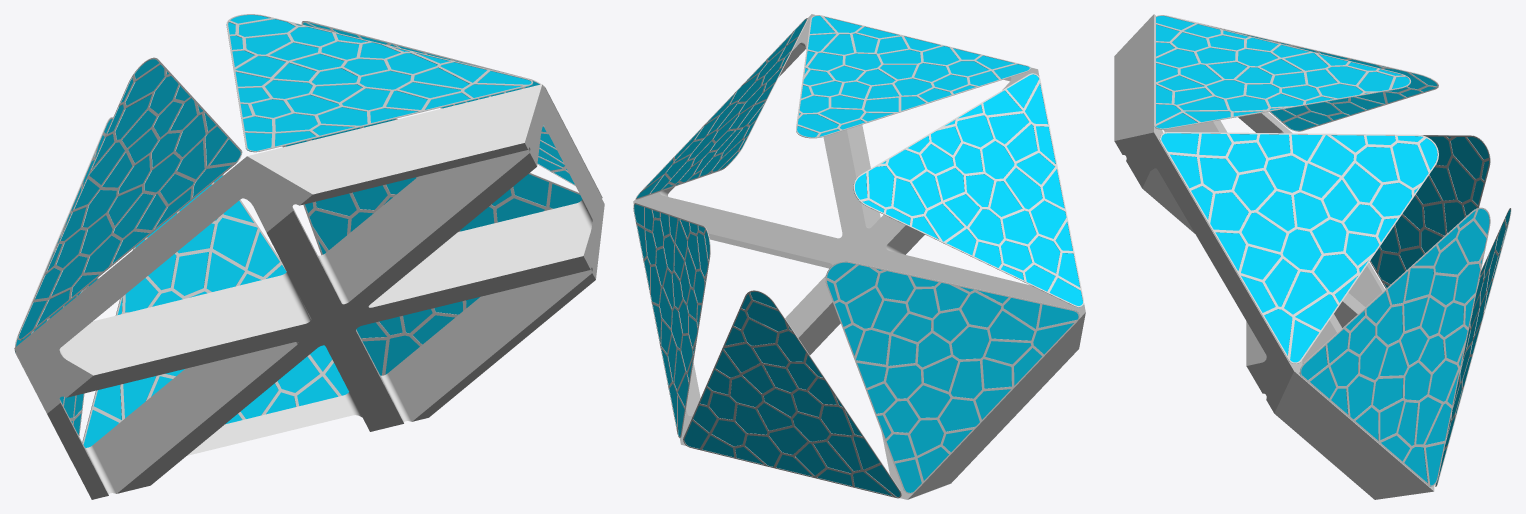
Rendered from Nets.fbx.
3 renders of one model, left to right at view 1: azimuth 30°, elevation 25°; view 2: azimuth 150°, elevation 25°; view 3: azimuth 270°, elevation 25°, orthographic. The views are drawn at different scales.
Visible parts, largest first — view 1: 物件_20, 物件_14, 物件_19, 物件_15, 物件_18, 物件_6, 物件_5, 物件_1, 物件_8, 物件_13, 物件_3, 物件_17 (+5 smaller); view 2: 物件_16, 物件_19, 物件_20, 物件_15, 物件_14, 物件_18, 物件_4, 物件_17, 物件_5, 物件_1, 物件_6, 物件_3 (+7 smaller); view 3: 物件_17, 物件_20, 物件_18, 物件_14, 物件_7, 物件_16, 物件_3, 物件_6, 物件_19, 物件_11, 物件_12, 物件_15 (+7 smaller).
Boxes of the visible parts, x1,y1,x2,y2 form: 物件_20: (14, 84, 604, 499); 物件_14: (226, 15, 532, 151); 物件_19: (19, 59, 241, 340); 物件_15: (83, 175, 348, 447); 物件_18: (286, 119, 582, 375); 物件_6: (226, 14, 533, 152); 物件_5: (17, 57, 242, 340); 物件_1: (82, 175, 339, 444); 物件_8: (226, 14, 526, 152); 物件_13: (23, 59, 242, 337); 物件_3: (282, 118, 579, 375); 物件_17: (303, 22, 574, 184); 物件_16: (827, 262, 1078, 492); 物件_19: (855, 73, 1082, 307); 物件_20: (633, 14, 1085, 499); 物件_15: (684, 291, 900, 496); 物件_14: (797, 16, 1029, 137); 物件_18: (634, 204, 709, 436); 物件_4: (825, 261, 1079, 493); 物件_17: (637, 19, 806, 198); 物件_5: (853, 73, 1083, 307); 物件_1: (683, 290, 901, 498); 物件_6: (796, 15, 1030, 138); 物件_3: (633, 203, 710, 437); 物件_17: (1161, 133, 1437, 362); 物件_20: (1114, 14, 1434, 499); 物件_18: (1300, 209, 1489, 486); 物件_14: (1154, 16, 1411, 128); 物件_7: (1159, 132, 1438, 363); 物件_16: (1370, 136, 1488, 287); 物件_3: (1299, 207, 1490, 486); 物件_6: (1154, 15, 1410, 129); 物件_19: (1235, 32, 1437, 130); 物件_11: (1161, 132, 1432, 363); 物件_12: (1300, 212, 1489, 484); 物件_15: (1436, 209, 1510, 484).
Bounding box in the file's own units: 400 × 284 × 284.
